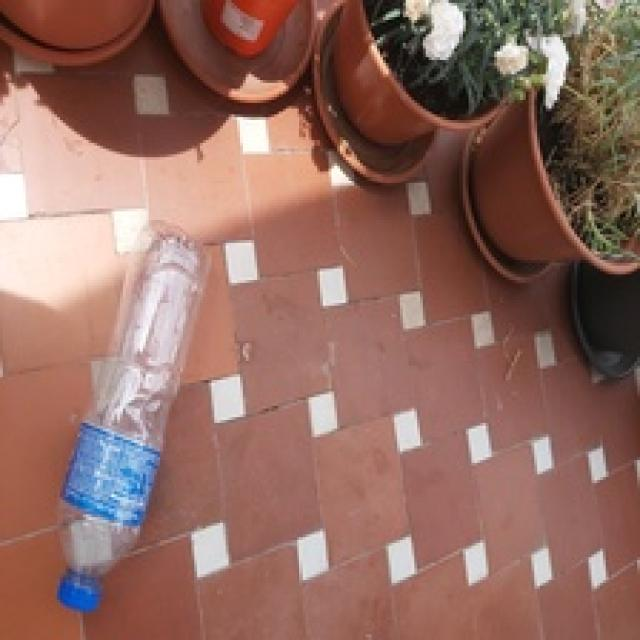plastic: (46, 216, 219, 621)
